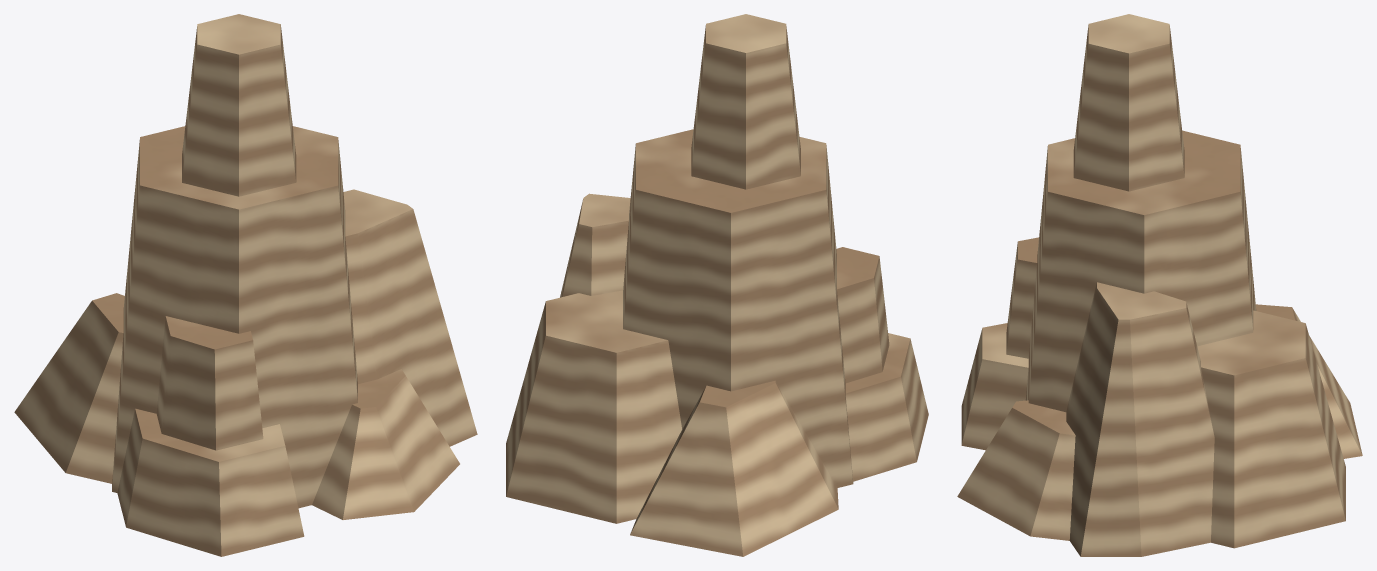
Rendered from cliff.glb.
The picture shows the model from 3 angles, left to right: view 1: azimuth 30°, elevation 25°; view 2: azimuth 150°, elevation 25°; view 3: azimuth 270°, elevation 25°; orthographic projection. The views are drawn at different scales.
Visible parts, largest first — view 1: rock_tallB; view 2: rock_tallB; view 3: rock_tallB.
Part boxes in pixels (<box>): rock_tallB: <box>14,14,477,556</box>; rock_tallB: <box>506,14,928,556</box>; rock_tallB: <box>957,14,1362,556</box>.
Size of the model in its own units: 0.7648 by 0.8838 by 0.77.
1 material, 1 textured.
